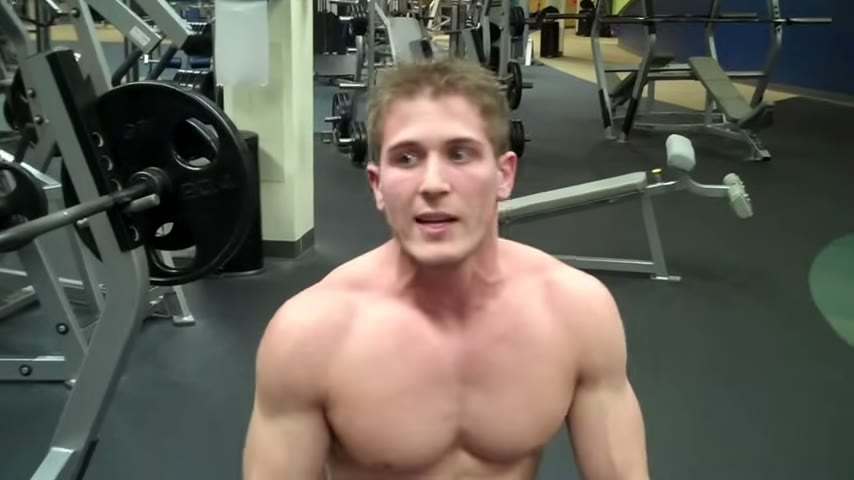barbell_plate_side: (105, 50, 276, 453)
